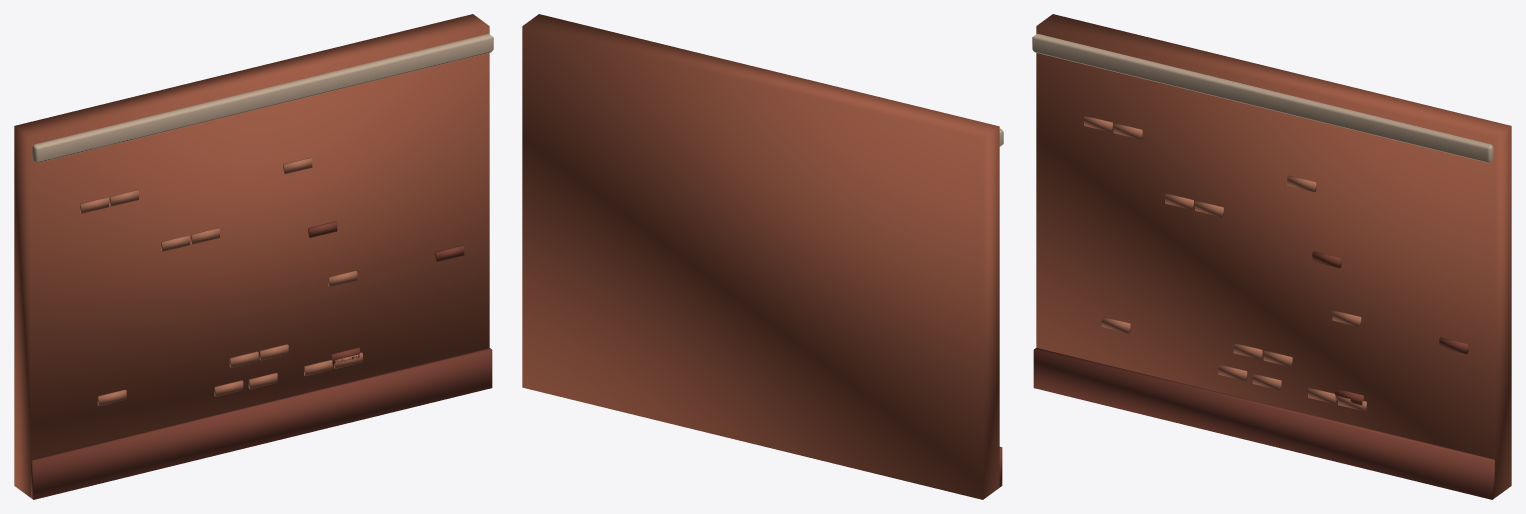
The model's file is wall_4m.glb.
3 renders of one model, left to right at view 1: azimuth 30°, elevation 25°; view 2: azimuth 150°, elevation 25°; view 3: azimuth 330°, elevation 25°, orthographic.
Parts seen in each view (by area): view 1: wall_4m; view 2: wall_4m; view 3: wall_4m.
Part boxes in pixels (x1,y1,x2,y2): wall_4m: (14, 14, 493, 499); wall_4m: (522, 14, 1003, 499); wall_4m: (1032, 14, 1511, 499).
Bounding box in the file's own units: 4 × 3 × 0.33.
